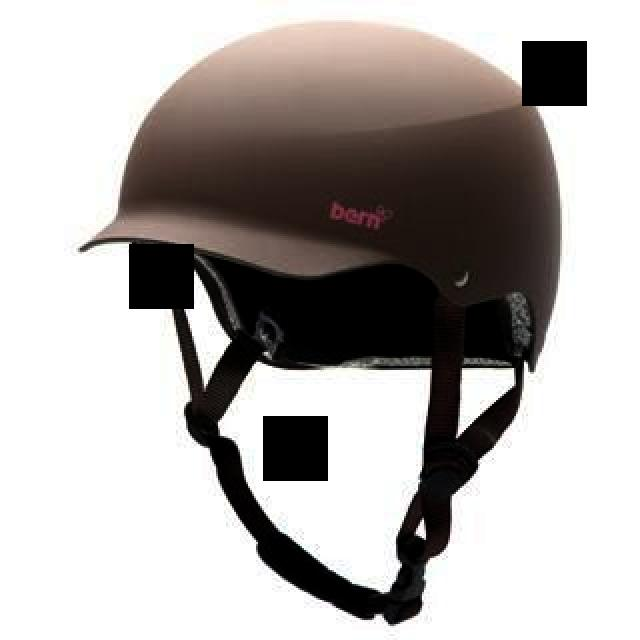Helmet: (83, 17, 561, 373)
